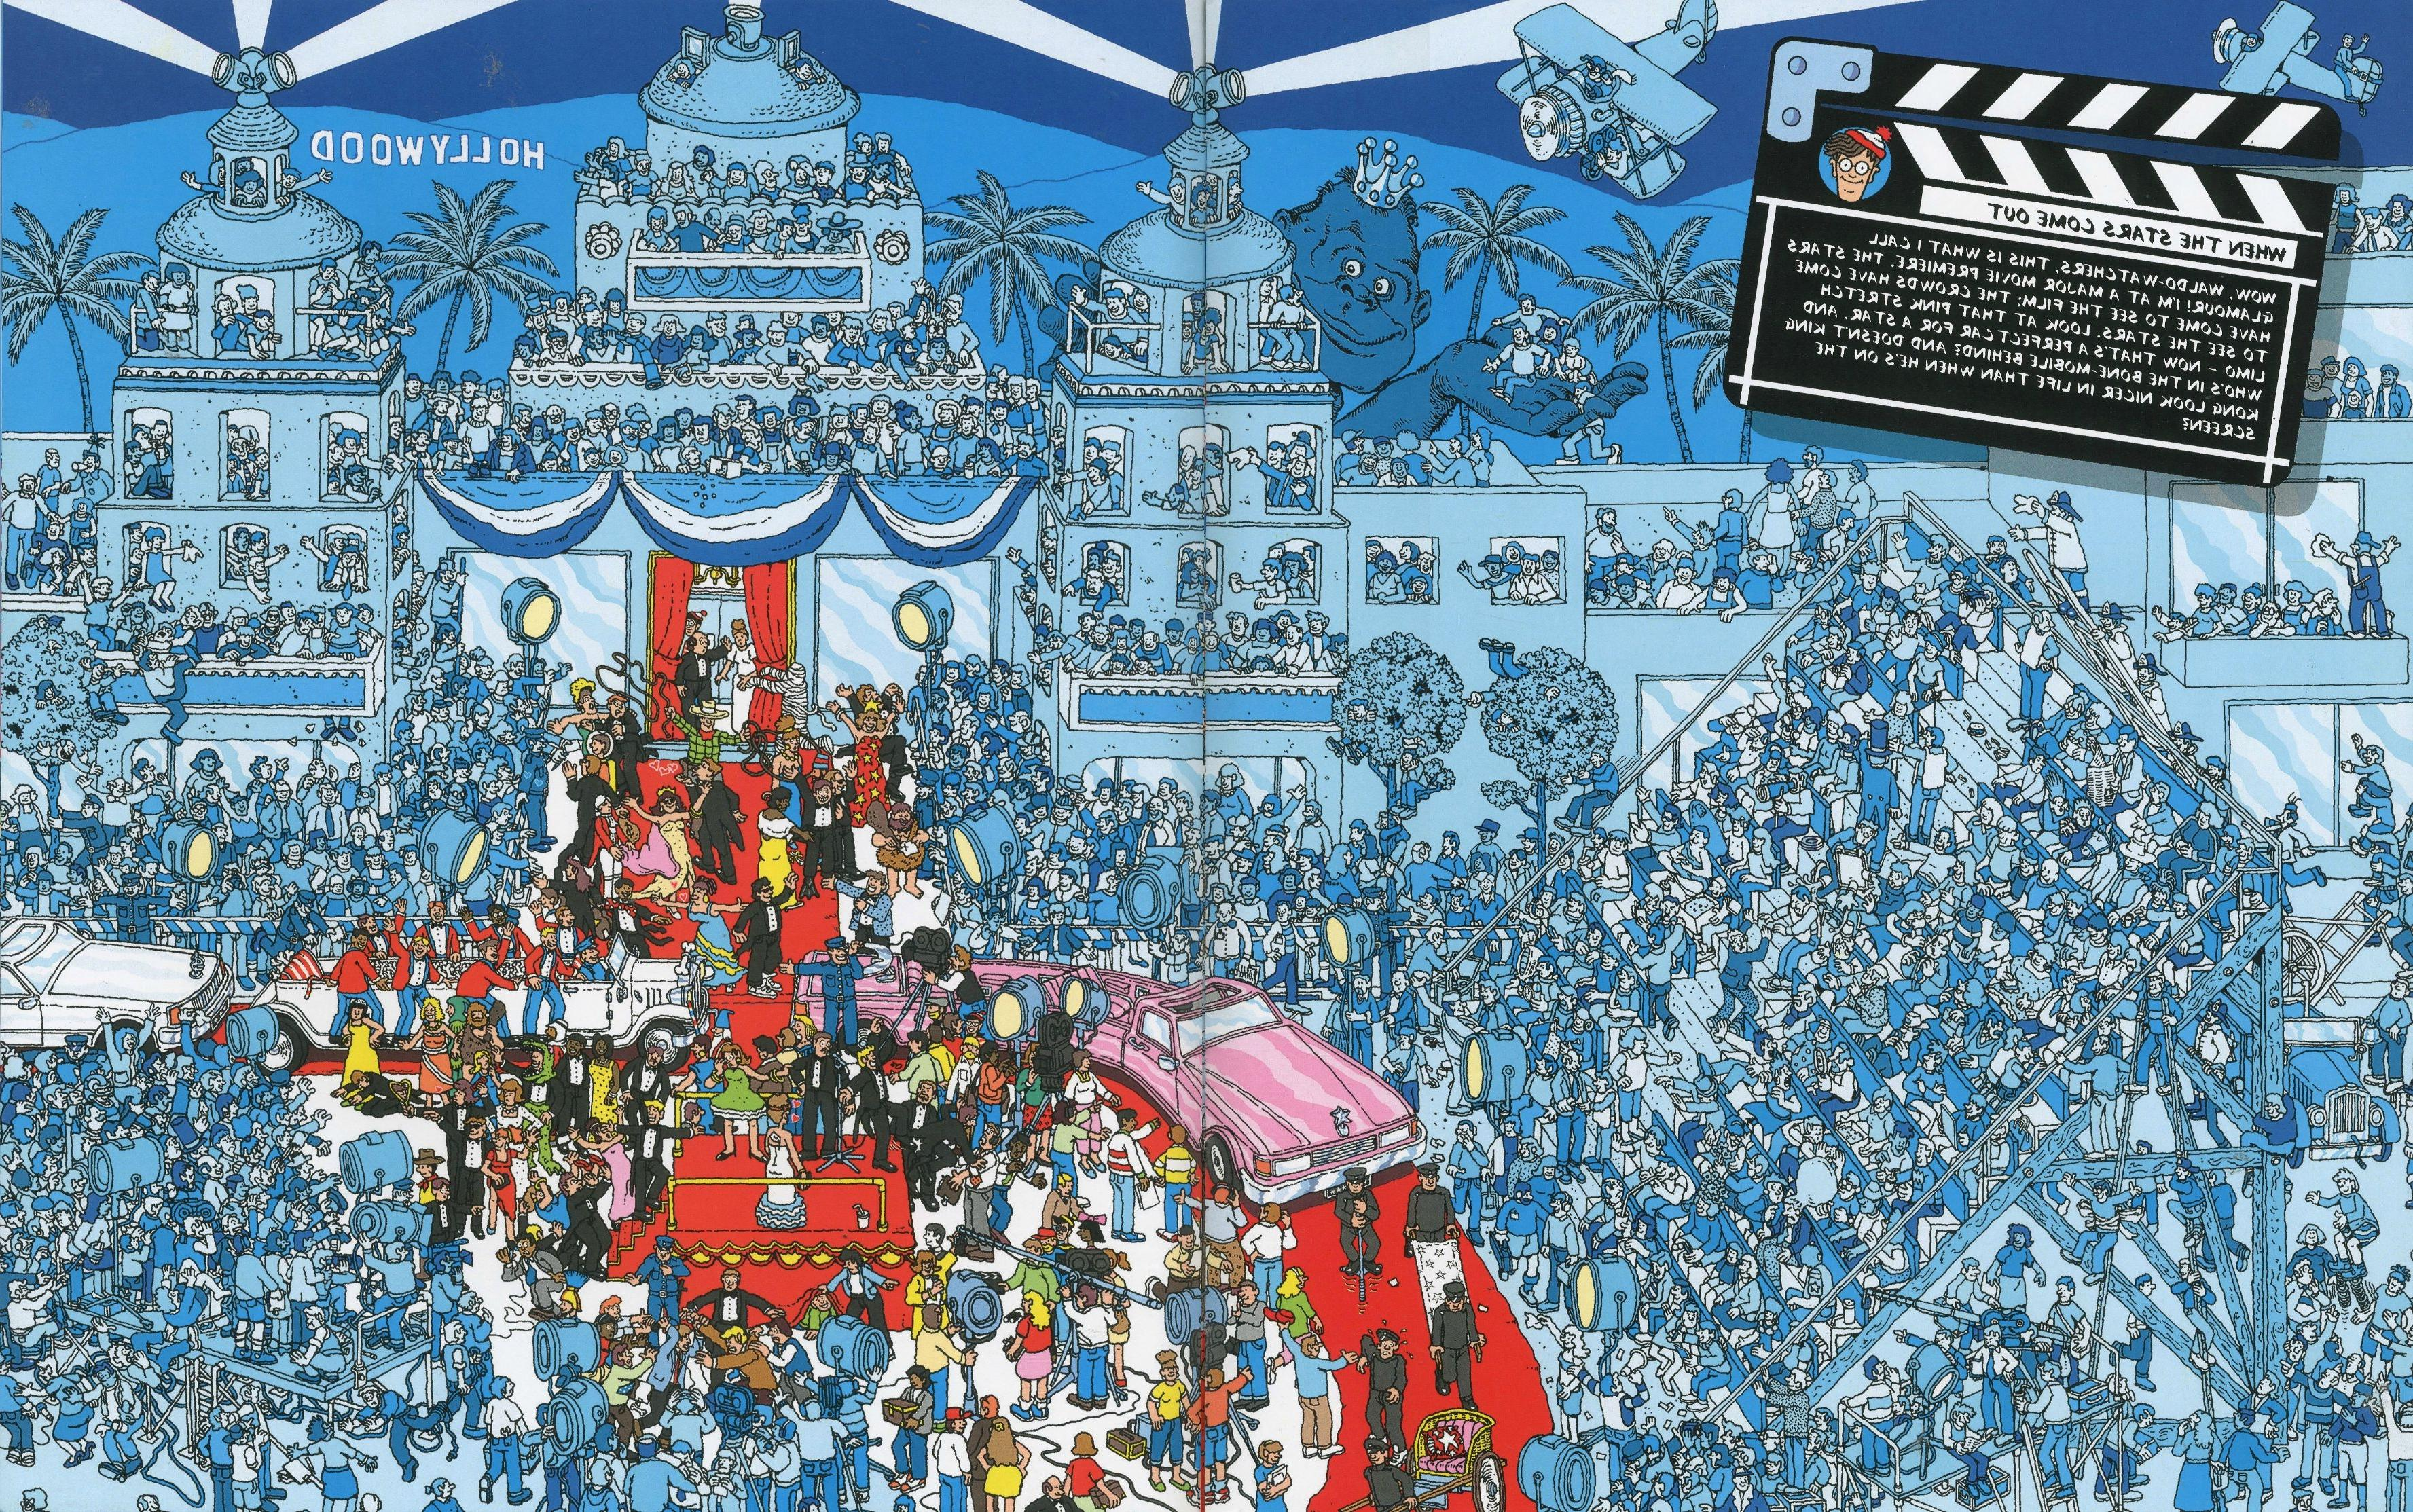waldos: (679, 608, 709, 657)
